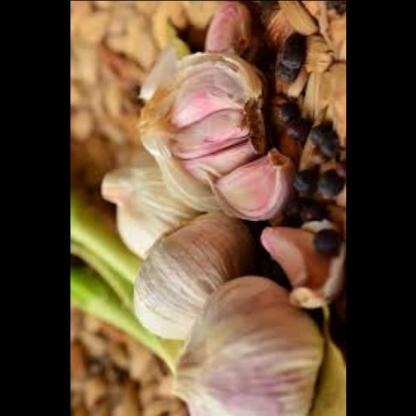garlic: (135, 46, 280, 233), (167, 268, 317, 416), (128, 200, 257, 350), (98, 155, 198, 265), (199, 147, 295, 231), (257, 221, 345, 310), (194, 5, 270, 70)
